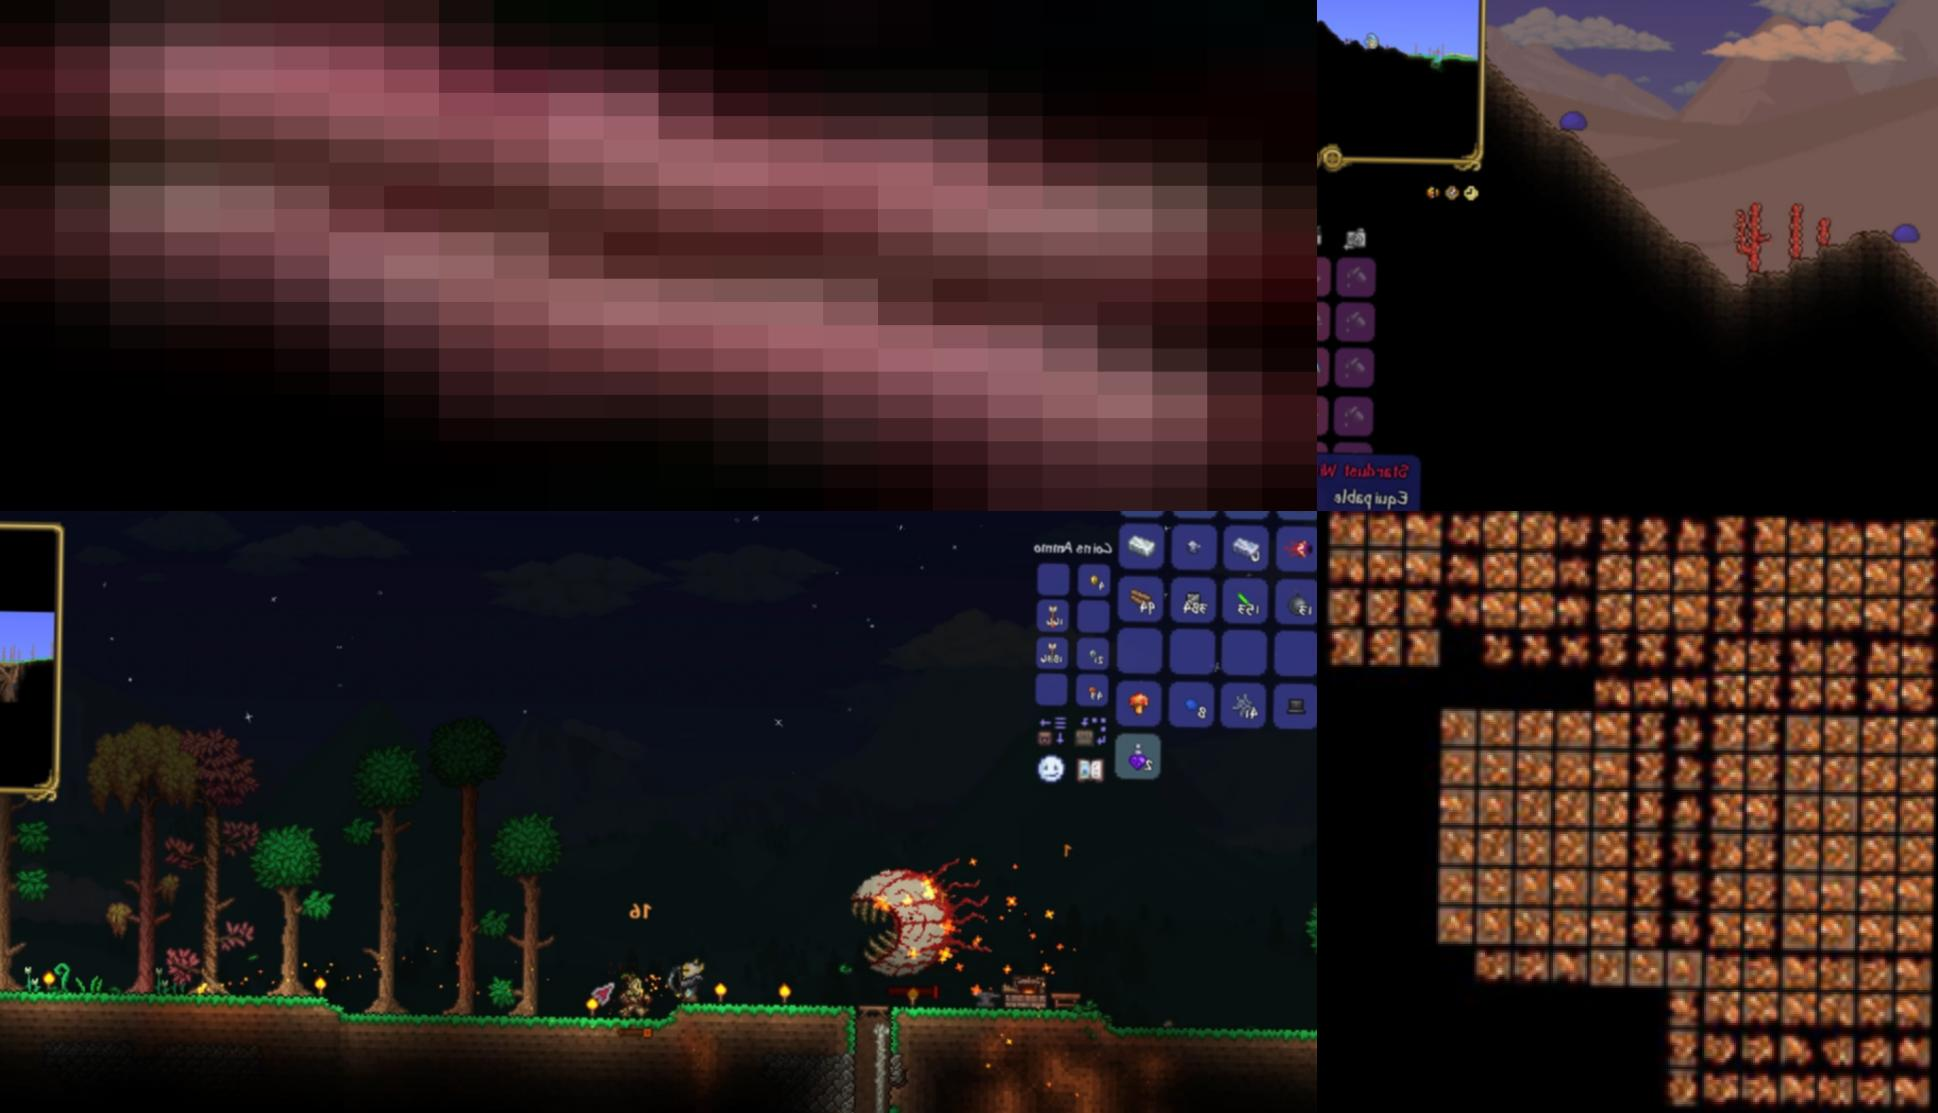copper: (1899, 521, 1938, 558)
eyeC: (841, 848, 1002, 977)
wood: (0, 0, 1316, 511)
